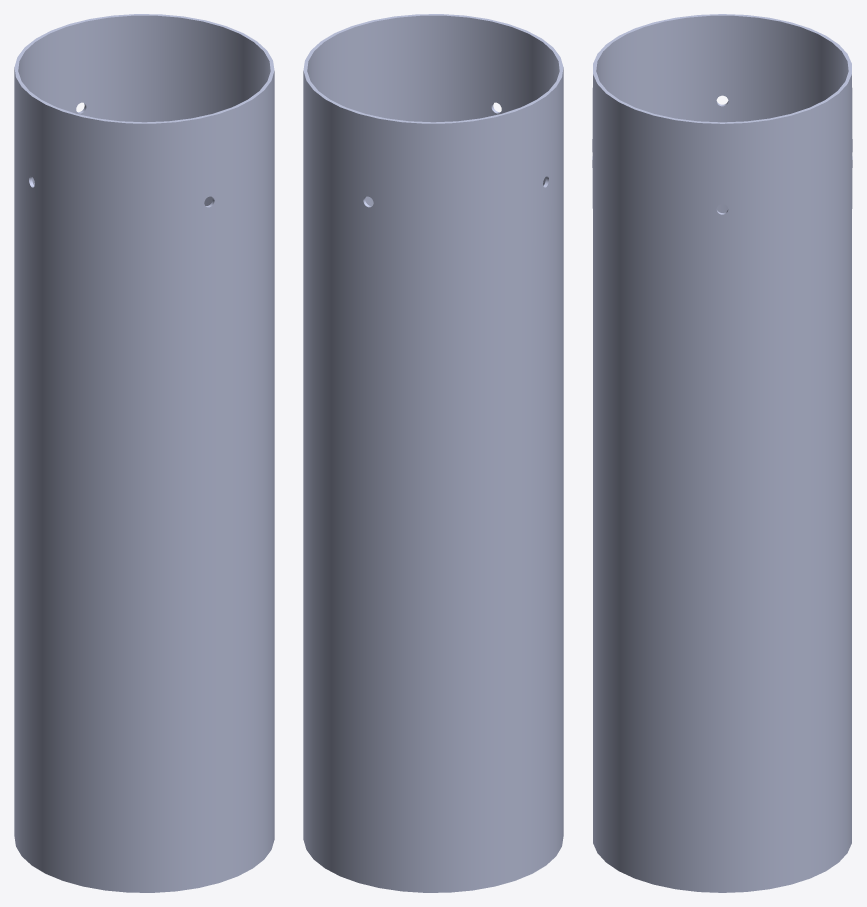
The model's file is subscale_forwardbody.obj.
3 views of the same model, side by side, from view 1: azimuth 30°, elevation 25°; view 2: azimuth 150°, elevation 25°; view 3: azimuth 270°, elevation 25° (orthographic).
Parts seen in each view (by area): view 1: mesh_1_subscale_forw.004; view 2: mesh_1_subscale_forw.004; view 3: mesh_1_subscale_forw.004.
Part boxes in pixels (left/top/right/bottom): mesh_1_subscale_forw.004: left=14, top=14, right=274, bottom=892; mesh_1_subscale_forw.004: left=303, top=14, right=563, bottom=892; mesh_1_subscale_forw.004: left=592, top=14, right=852, bottom=892.
Bounding box in the file's own units: 0.1402 × 0.4572 × 0.1402.
